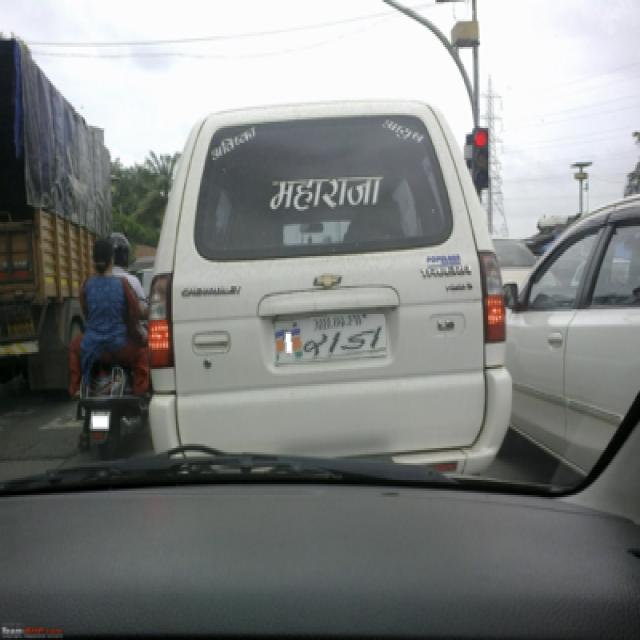licence: (267, 314, 386, 362)
